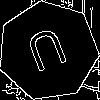U: (23, 26, 74, 82)
